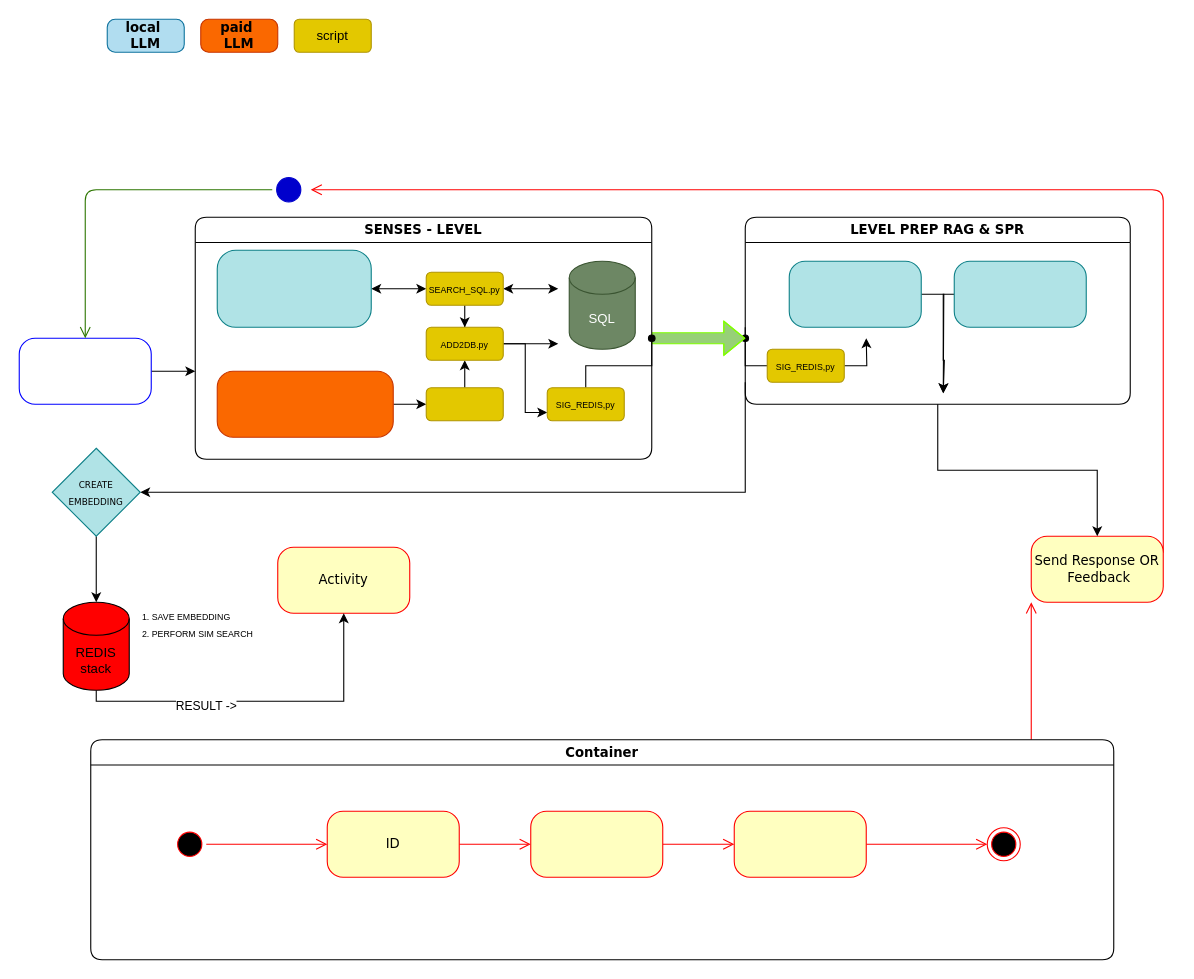
The diagram is 1194 pixels wide and 979 high, and some of its shapes have lost their labels. The shapes that lost their labels are listed below. From the top down, each one's centre as x and y in pixels, then its label:
the point at 293,288: duckdb-nsql: search query in db
the point at 854,293: nomic-embed-text; CREATE EMBEDDING
the point at 1019,293: DOLPHIN MIXTRAL 8X7B: CREATE SPR REPRESENTATION OF FOLLOWING INPUT.
the point at 84,370: Query
the point at 304,403: DOLPHIN MIXTRAL 8X7B: DETERMINE IF TASK, AND CREATE STEP BY STEP LIST
the point at 464,404: SPLIT_LIST.py
the point at 596,843: EGO
the point at 799,843: SUPER-EGO
